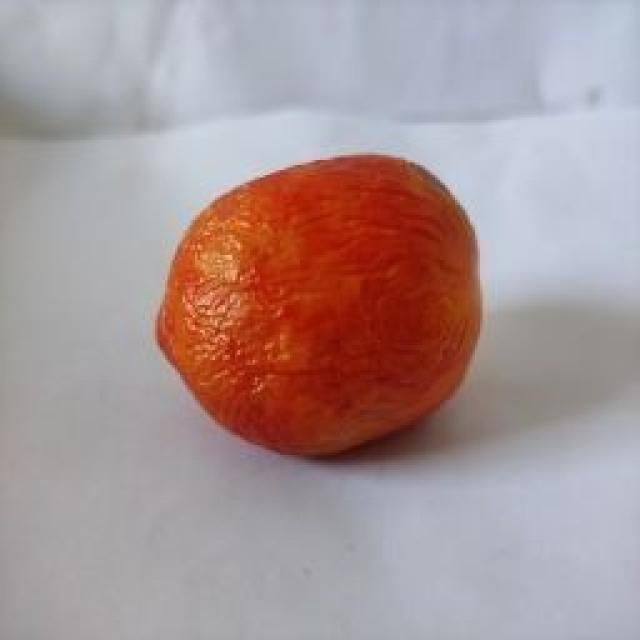overripe: (150, 146, 486, 461)
